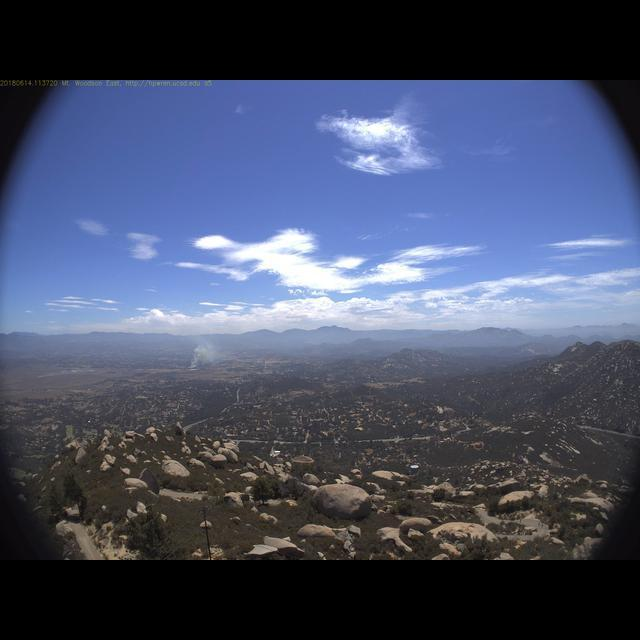Smoke: (184, 334, 225, 371)
